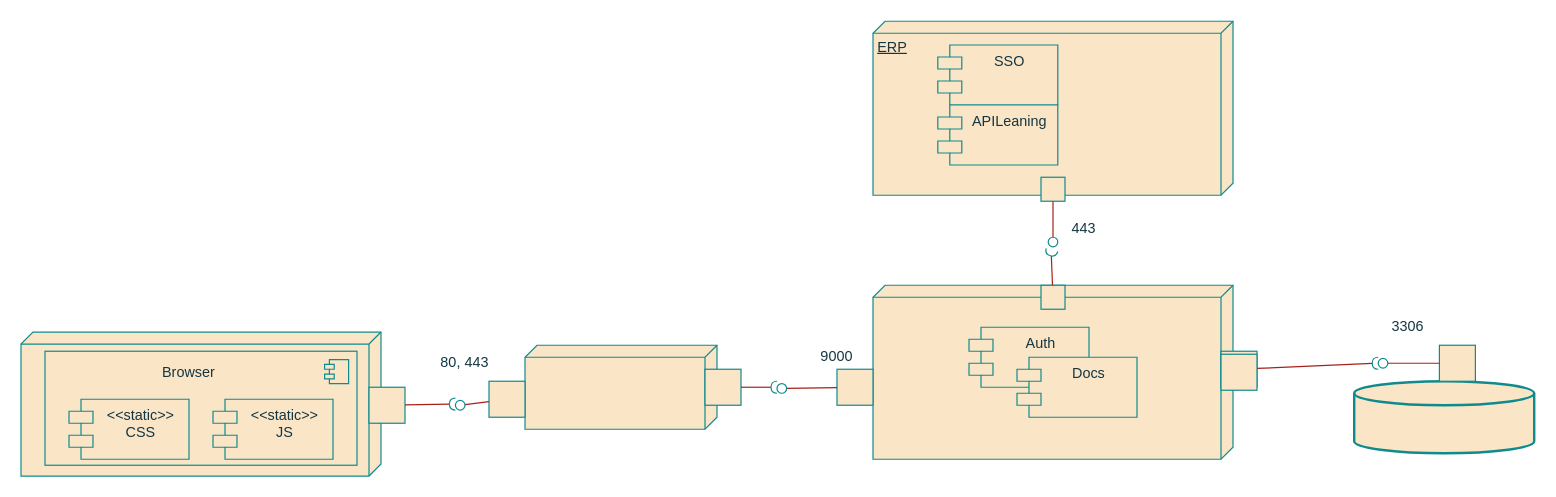
Image size: 1556x497. Some labels were removed from this diagram. Each missing label, with the box of its shape:
MARIADB: (1352, 379, 1535, 454)
moncompte.dawan.fr: (872, 284, 1233, 459)
PC: (20, 331, 381, 476)
reverse proxy: nginx x.y: (524, 344, 717, 429)
